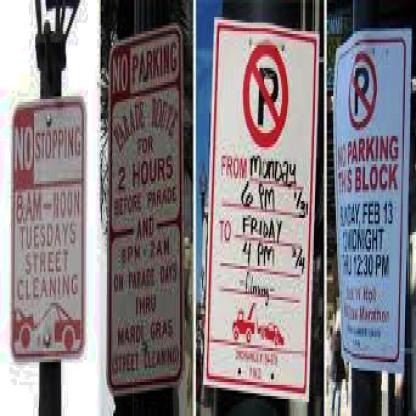No parking: (240, 35, 288, 150), (344, 52, 376, 127)
